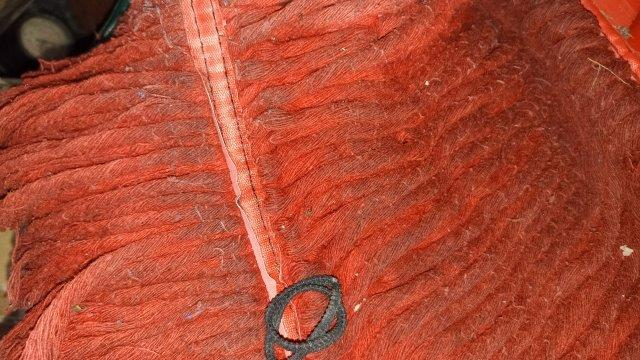karet: (265, 275, 346, 360)
